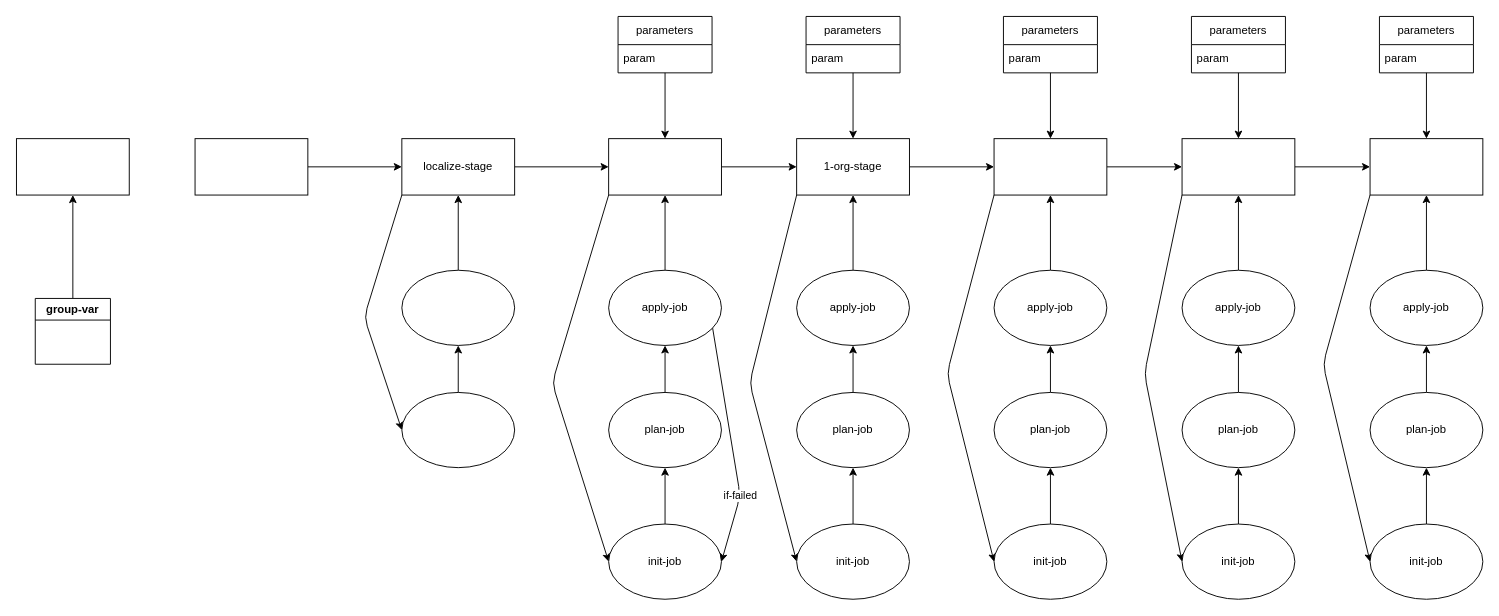
Image size: 1499x616. Some labels were removed from this diagram. The shapes that lost their labels are listed below. From the top down, each one's box as (x1, y1, x2, y2) in pixels, then its label:
(16, 138, 129, 195): pipeline.yaml
(194, 138, 308, 195): docker
(608, 138, 721, 195): 0-bootstrap-stage
(993, 138, 1107, 195): 2-environments-stage
(1181, 138, 1295, 195): 3-networks-hub-and-spoke-stage
(1369, 138, 1483, 195): 4-projects-stage
(401, 269, 515, 345): install-python
(401, 392, 515, 468): run-python
